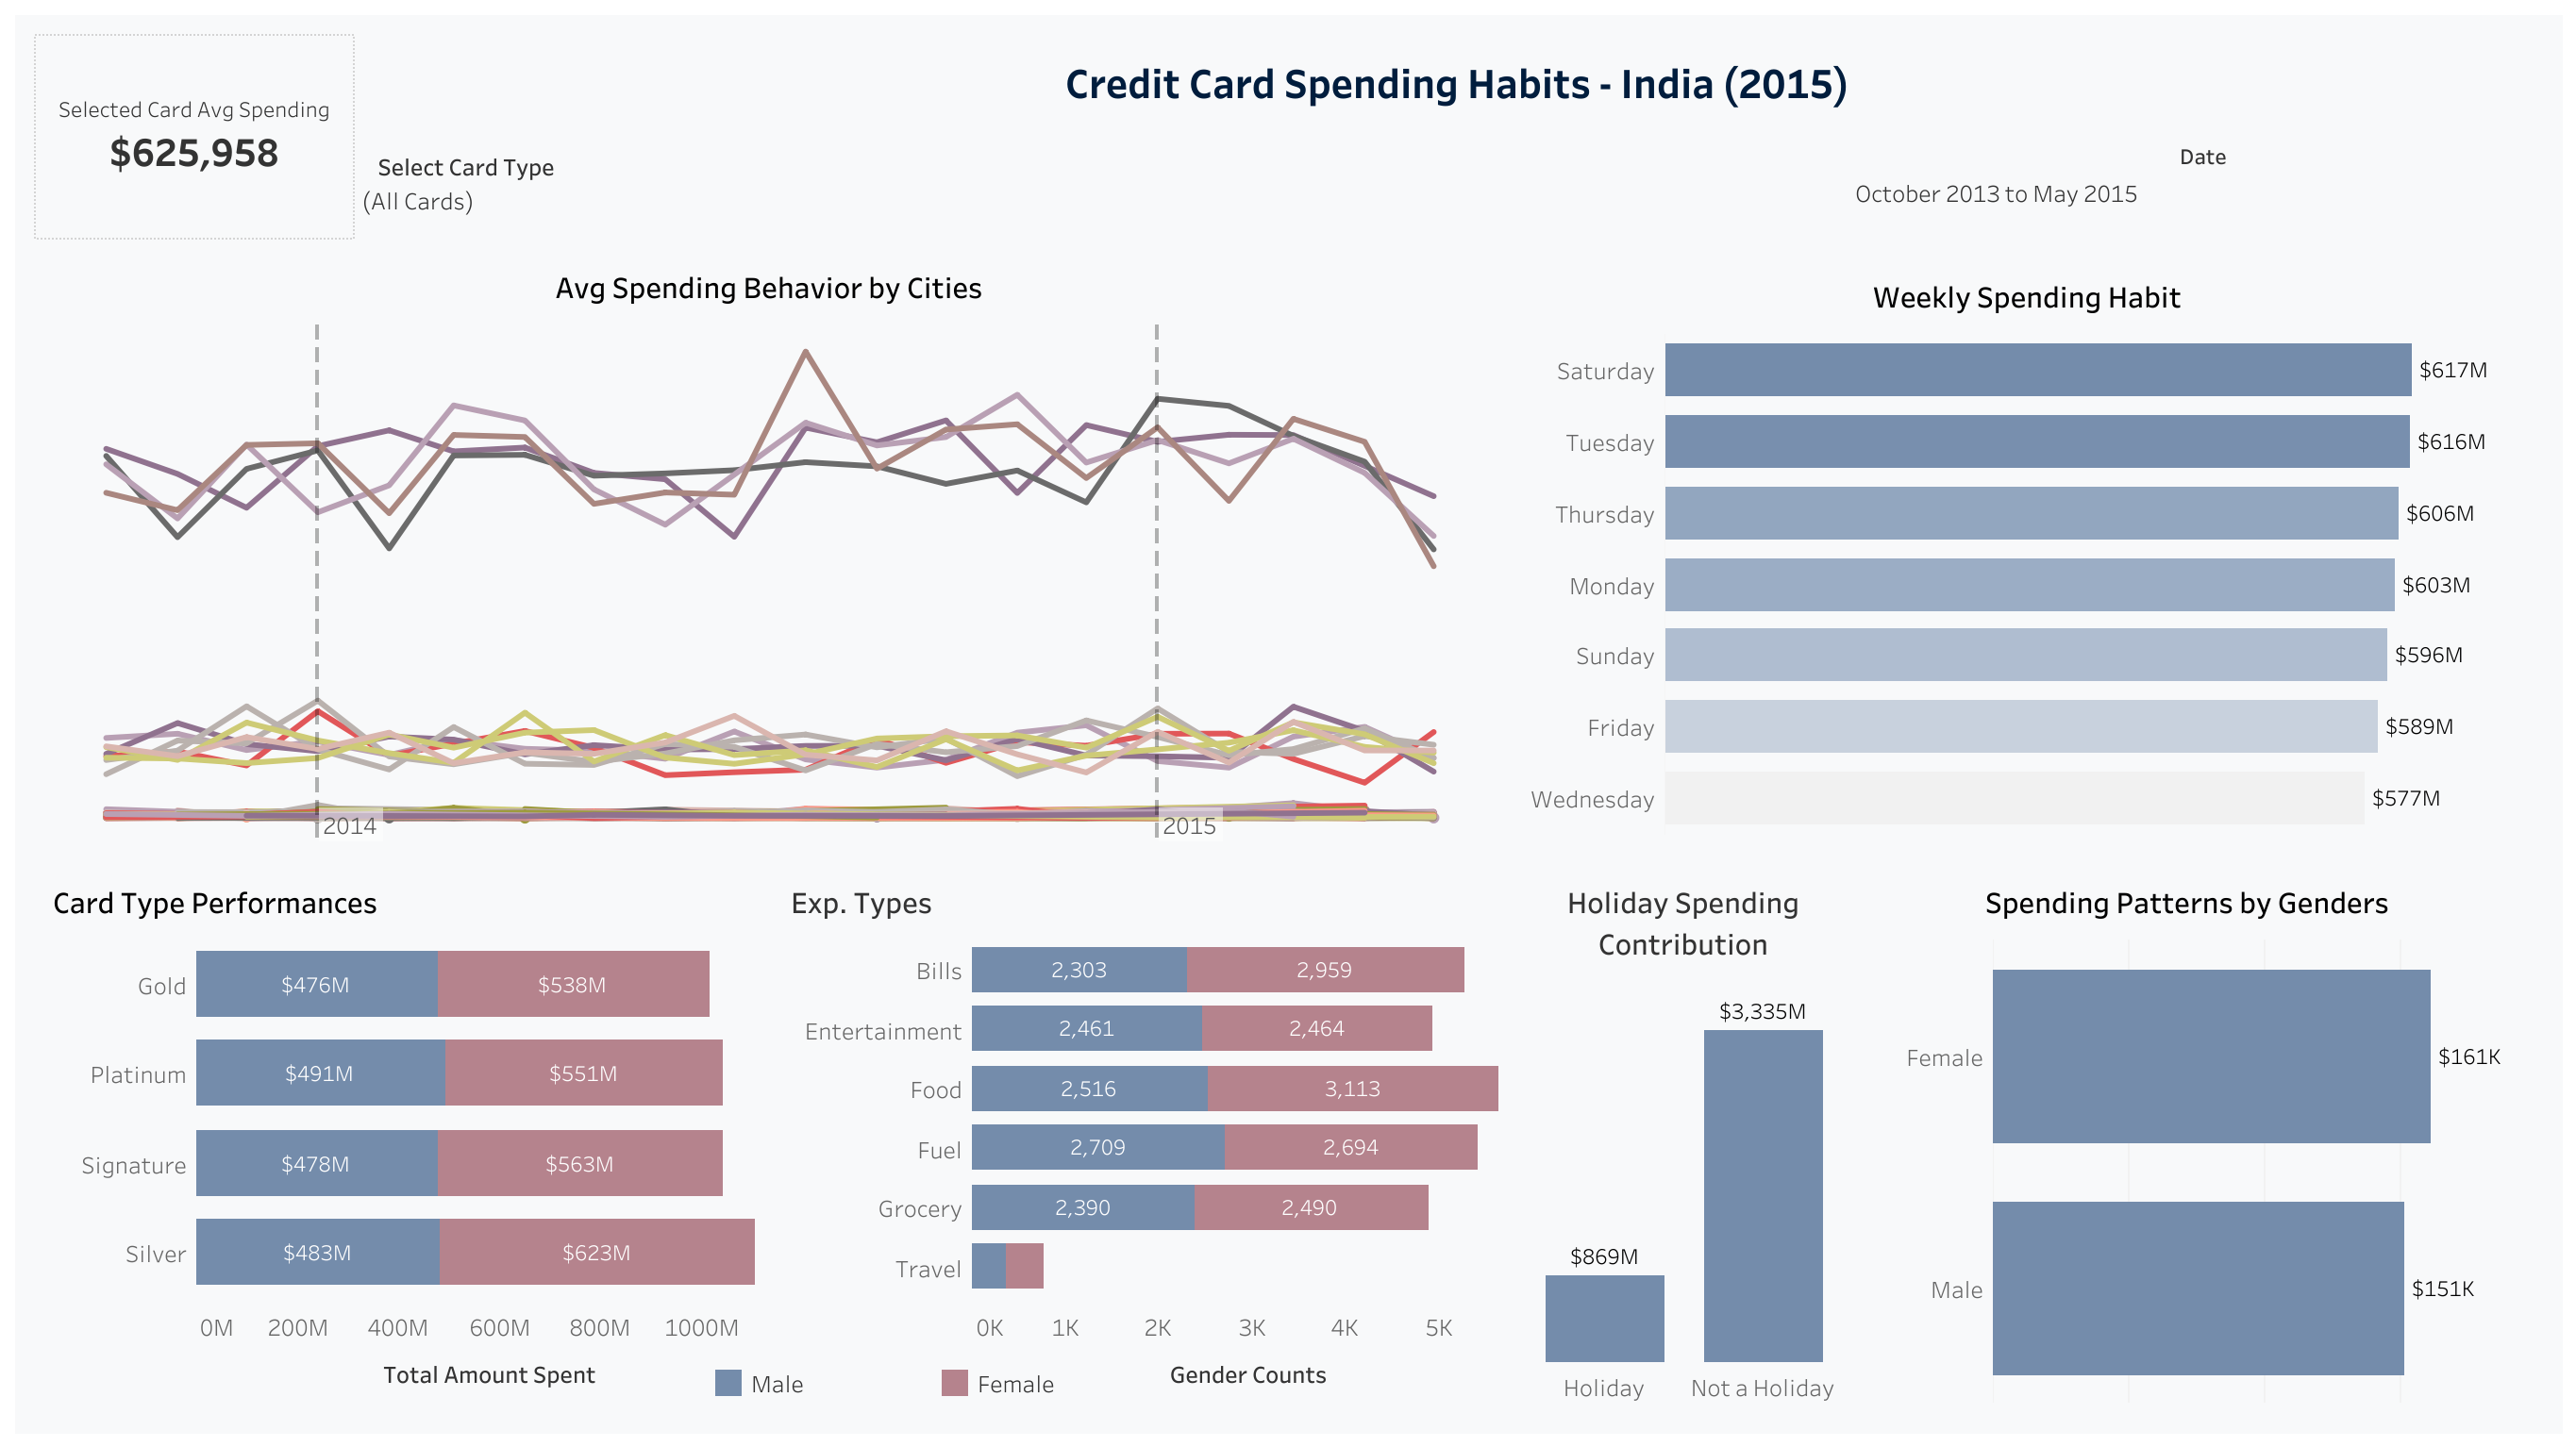

The page's visual inventory and layout, read from the dashboard file:
{"tool":"tableau","page":{"name":"Dashboard 1","canvas":[1366,768],"ordinal":0},"visuals":[{"type":"worksheet","title":"avg card spending","mark":"Automatic","box":[14,14,177.8,116.7]},{"type":"text","box":[191.8,14,1160.2,58.3]},{"type":"blank","box":[191.8,72.3,1160.2,58.4]},{"type":"filter","title":"1. (2)","param":"[federated.05vib0e0dgw5d1152x3mr0v0hjss].[tmn:Date:qk]","box":[980,74,375,51]},{"type":"parameter","param":"[Parameters].[Parameter 1]","box":[190,78,213,68]},{"type":"worksheet","title":"1. (2)","mark":"Automatic","rows":["amount"],"cols":["Date"],"box":[18,134.7,779,312.6]},{"type":"worksheet","title":"6.","mark":"Automatic","rows":["day_name"],"cols":["amount"],"box":[802,139.7,541,302.6]},{"type":"worksheet","title":"3.","mark":"Automatic","rows":["Card Type"],"cols":["amount"],"box":[24,461.3,391,282.7]},{"type":"worksheet","title":"Sheet 4","mark":"Automatic","rows":["Exp Type"],"cols":["Gender"],"box":[415,461.3,393,282.7]},{"type":"worksheet","title":"4.","mark":"Automatic","rows":["amount"],"cols":["Calculation_317785314373238784"],"box":[808,461.3,168,282.7]},{"type":"worksheet","title":"2.","mark":"Automatic","rows":["Gender"],"cols":["amount"],"box":[976,461.3,366,282.7]},{"type":"legend","title":"3.","param":"[federated.05vib0e0dgw5d1152x3mr0v0hjss].[none:Gender:nk]","box":[376,723,285,27]}]}

Visuals, with their boxes in screenshot pixels (x1, y1, x2, y2), scaled from the page's 1366x768 canvas onto the 2576x1447 screenshot:
"avg card spending" worksheet: (x1=26, y1=26, x2=361, y2=246)
text: (x1=361, y1=26, x2=2550, y2=136)
blank: (x1=361, y1=136, x2=2550, y2=246)
"1. (2)" filter: (x1=1848, y1=140, x2=2555, y2=236)
parameter: (x1=359, y1=147, x2=760, y2=275)
"1. (2)" worksheet: (x1=34, y1=254, x2=1503, y2=842)
"6." worksheet: (x1=1513, y1=263, x2=2533, y2=833)
"3." worksheet: (x1=45, y1=869, x2=782, y2=1402)
"Sheet 4" worksheet: (x1=782, y1=869, x2=1524, y2=1402)
"4." worksheet: (x1=1524, y1=869, x2=1841, y2=1402)
"2." worksheet: (x1=1841, y1=869, x2=2531, y2=1402)
"3." legend: (x1=709, y1=1362, x2=1246, y2=1413)
